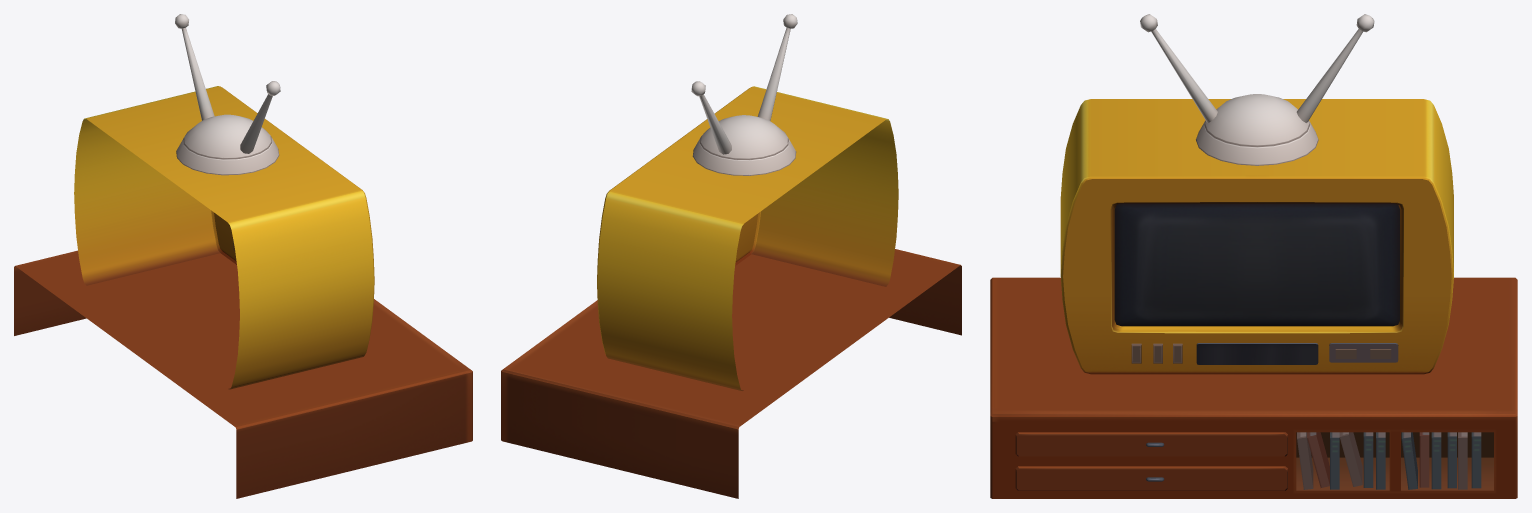
The model's file is jia_TV.FBX.
3 renders of one model, left to right at view 1: azimuth 30°, elevation 25°; view 2: azimuth 150°, elevation 25°; view 3: azimuth 270°, elevation 25°, orthographic. The views are drawn at different scales.
Visible parts, largest first — view 1: jia_TV; view 2: jia_TV; view 3: jia_TV.
Boxes of the visible parts, x1,y1,x2,y2 form: jia_TV: [14, 14, 472, 498]; jia_TV: [501, 14, 961, 498]; jia_TV: [990, 14, 1517, 498].
Bounding box in the file's own units: 142 × 193 × 227.
